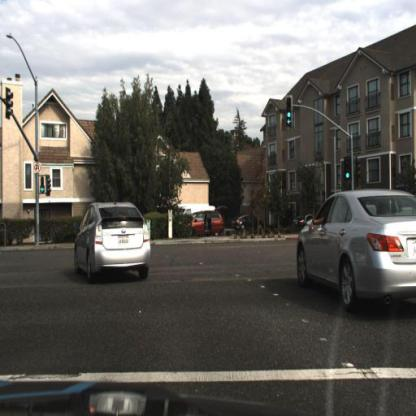car: (296, 190, 416, 321), (72, 191, 158, 294), (74, 198, 151, 287), (189, 204, 228, 239), (186, 209, 226, 238), (232, 214, 267, 235)
trafficLight: (286, 96, 296, 129), (343, 157, 353, 186), (39, 176, 51, 198)
trafficLight-GreenLeft: (39, 175, 48, 197)
